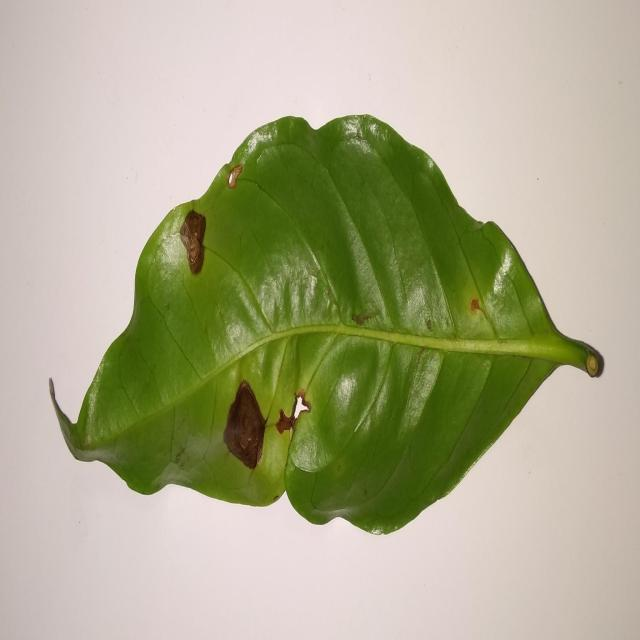Enfermedad-Antracnosis: (53, 114, 605, 538)
